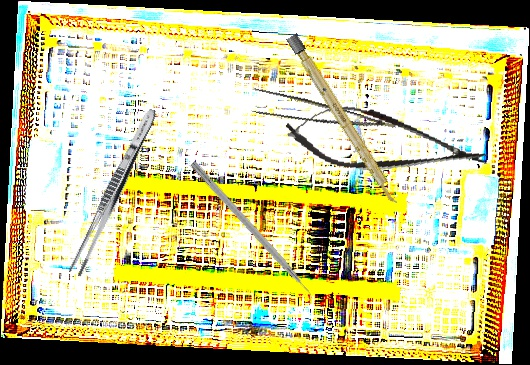Chopper: (181, 160, 320, 310)
Dressing Forceps: (67, 105, 161, 279)
Micro Scissor: (281, 95, 493, 190)
Scalpel Handle: (286, 33, 401, 207)
Tissue Forceps: (245, 83, 396, 151)
